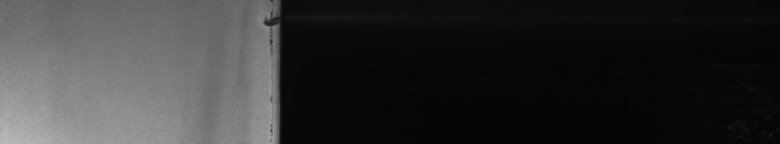hb: (257, 4, 268, 32)
